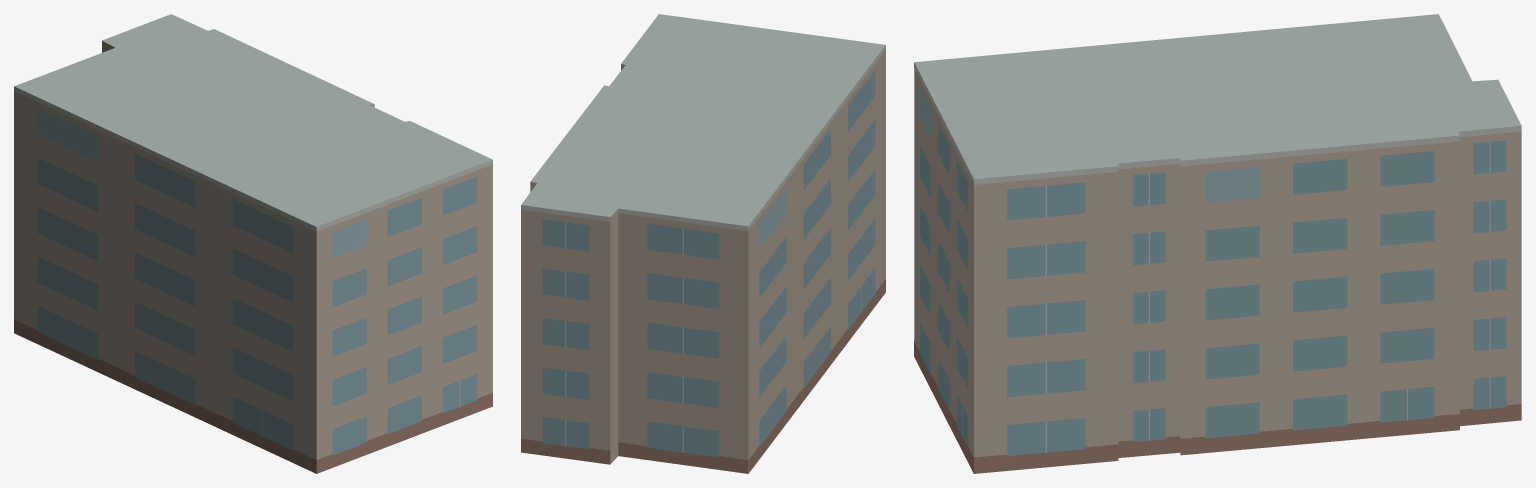
Rendered from survey-upis-32698344.glb.
3 renders of one model, left to right at view 1: azimuth 30°, elevation 25°; view 2: azimuth 150°, elevation 25°; view 3: azimuth 270°, elevation 25°, orthographic. The views are drawn at different scales.
Parts seen in each view (by area): view 1: survey-upis-32698344.tmp; view 2: survey-upis-32698344.tmp; view 3: survey-upis-32698344.tmp.
Part boxes in pixels (box(x1,y1,x2,y2)): survey-upis-32698344.tmp: box(14, 14, 492, 473); survey-upis-32698344.tmp: box(521, 14, 885, 473); survey-upis-32698344.tmp: box(914, 14, 1521, 473).
Size of the model in its own units: 15.3 by 12.7 by 23.75.
